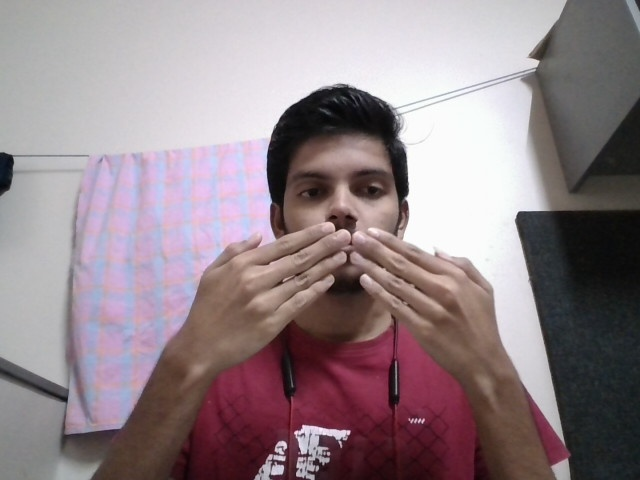Thank You: (177, 218, 517, 376)
